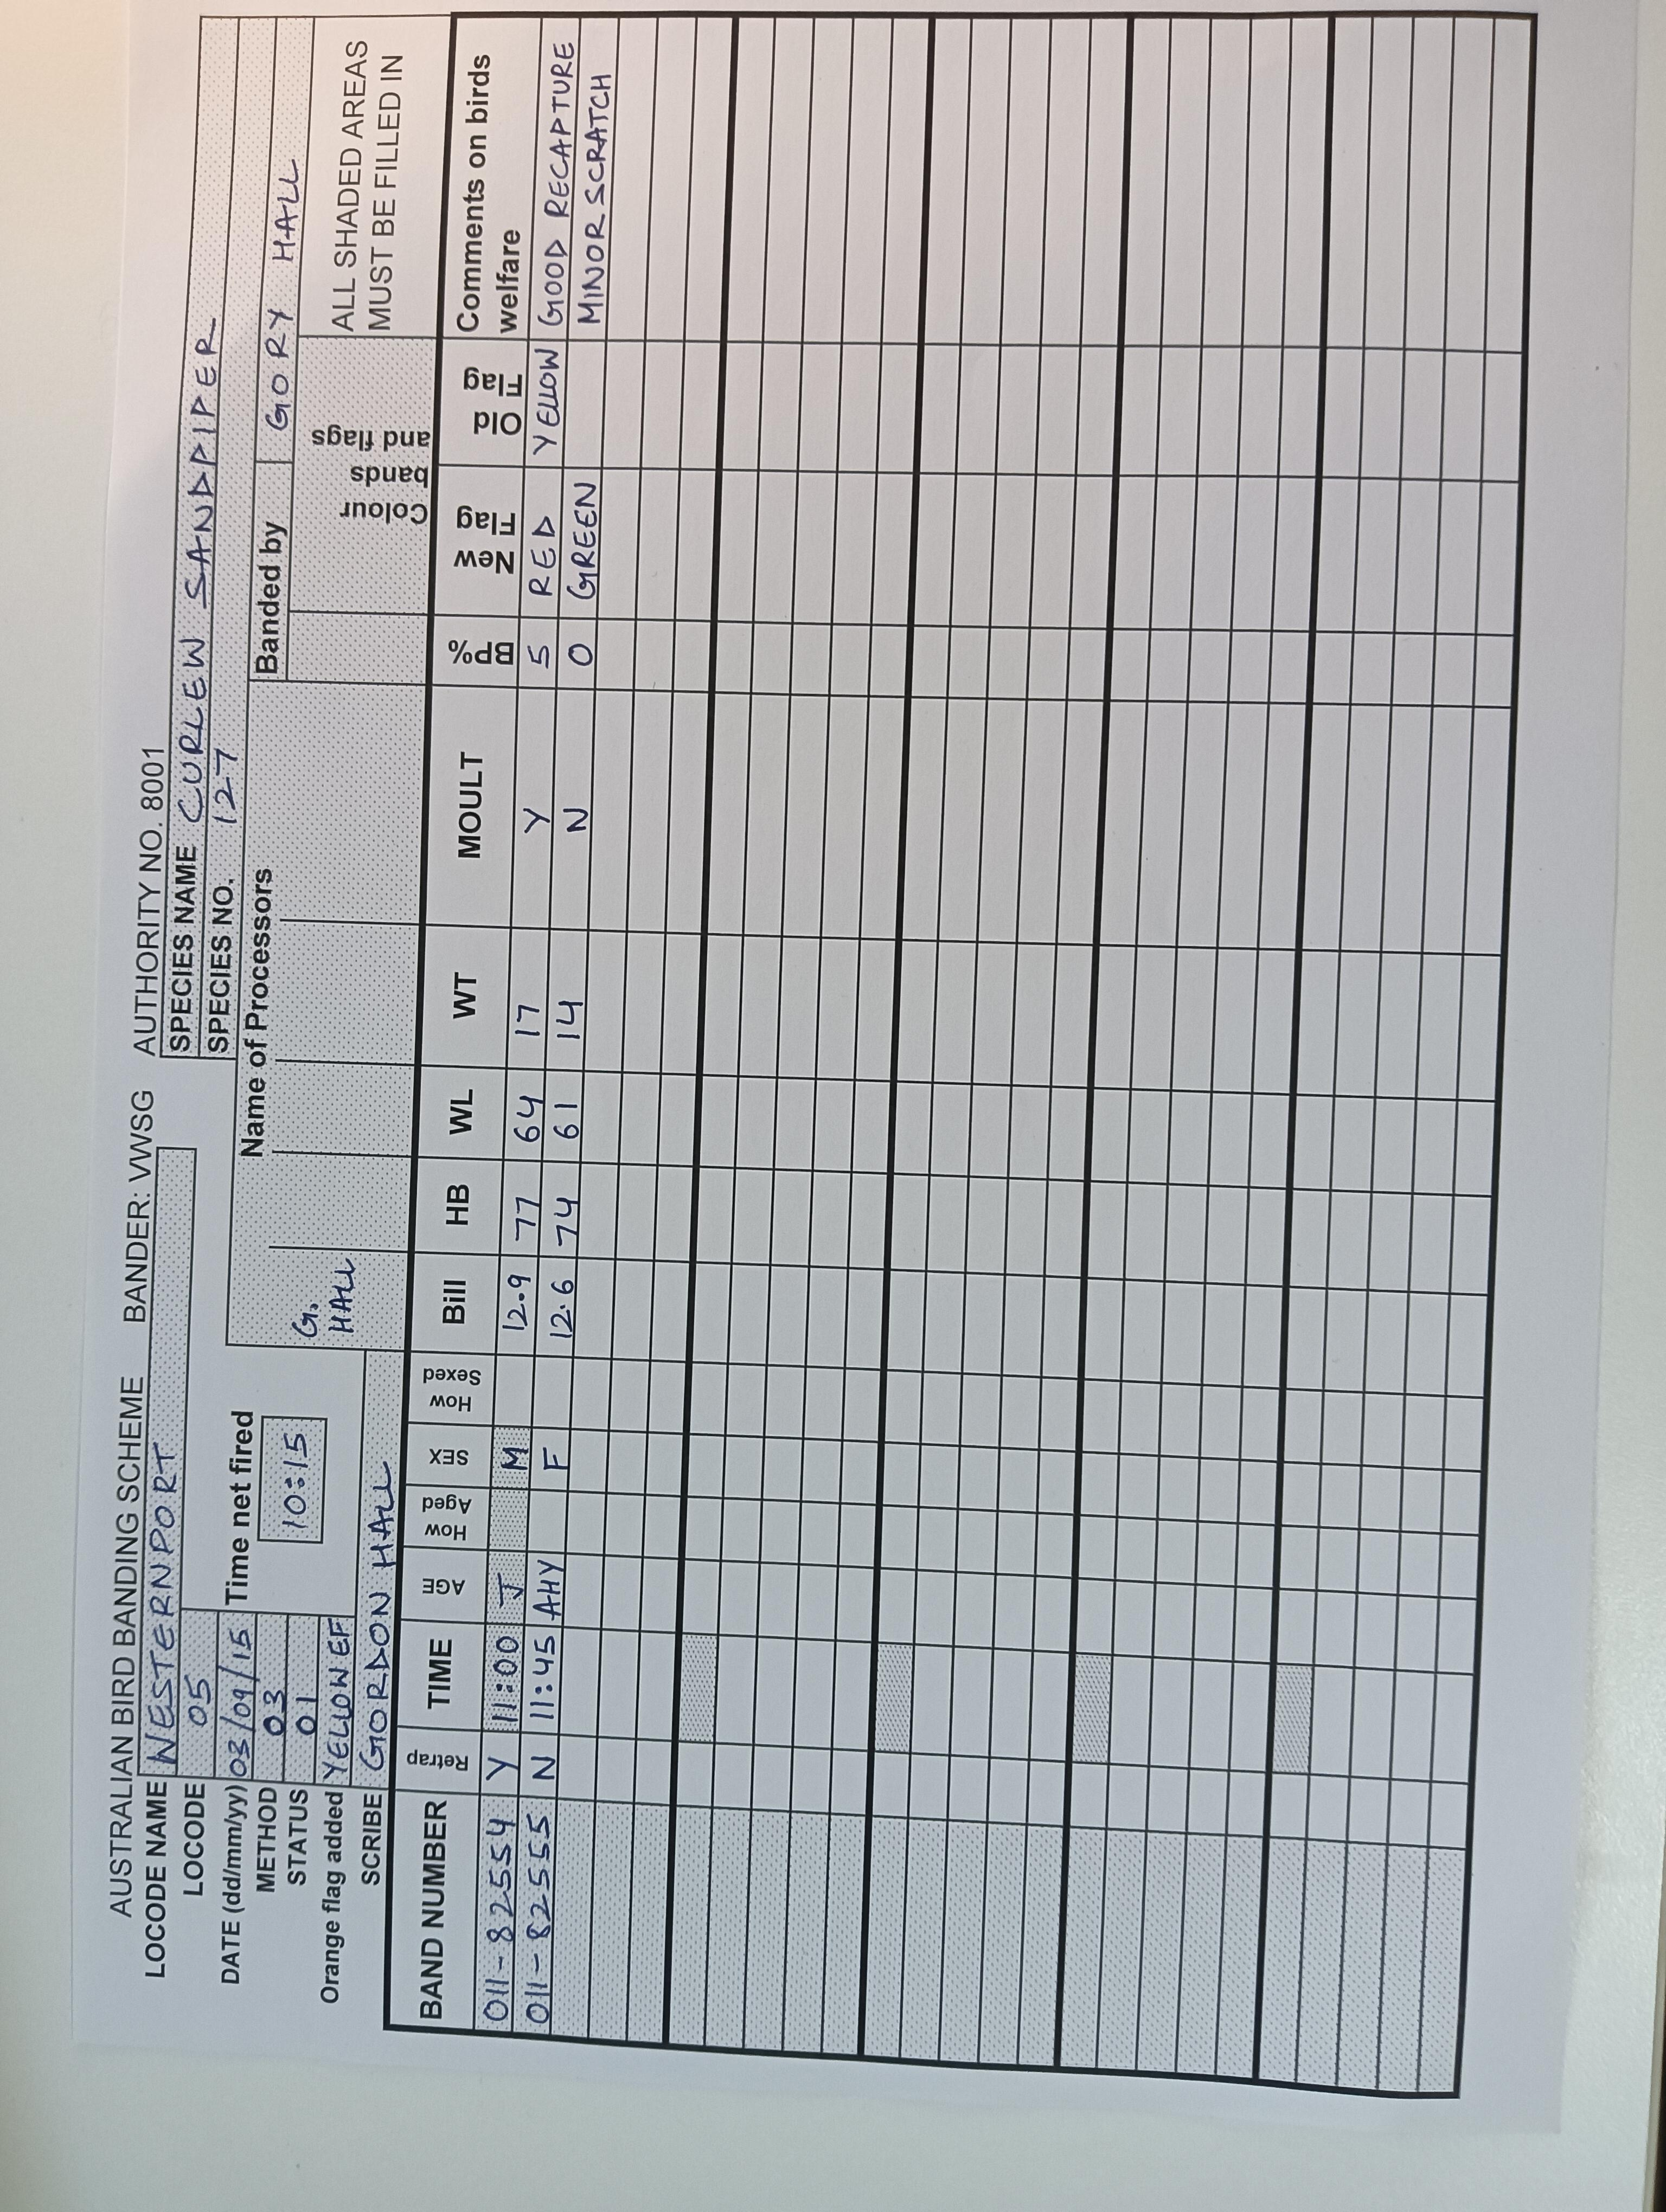BANDED_BY: (249, 12, 318, 682)
DATA: (472, 10, 581, 2032), (516, 14, 618, 2039)
DATE: (208, 1609, 261, 1997)
LOCOCODE: (177, 1610, 219, 1918)
LOCOCODE_NAME: (131, 1147, 198, 1988)
METHOD: (252, 1610, 289, 1902)
NAME_OF_PROCESSORS: (261, 1249, 413, 1353)
ORANGE_FLAG_ADDED: (306, 1612, 362, 2014)
SCRIBE: (352, 1350, 410, 1911)
SPECIES_NAME: (163, 16, 238, 1056)
SPECIES_NO: (194, 16, 273, 1058)
STATUS: (282, 1610, 320, 1896)
TIME_NET_FIRED: (205, 1362, 348, 1609)
